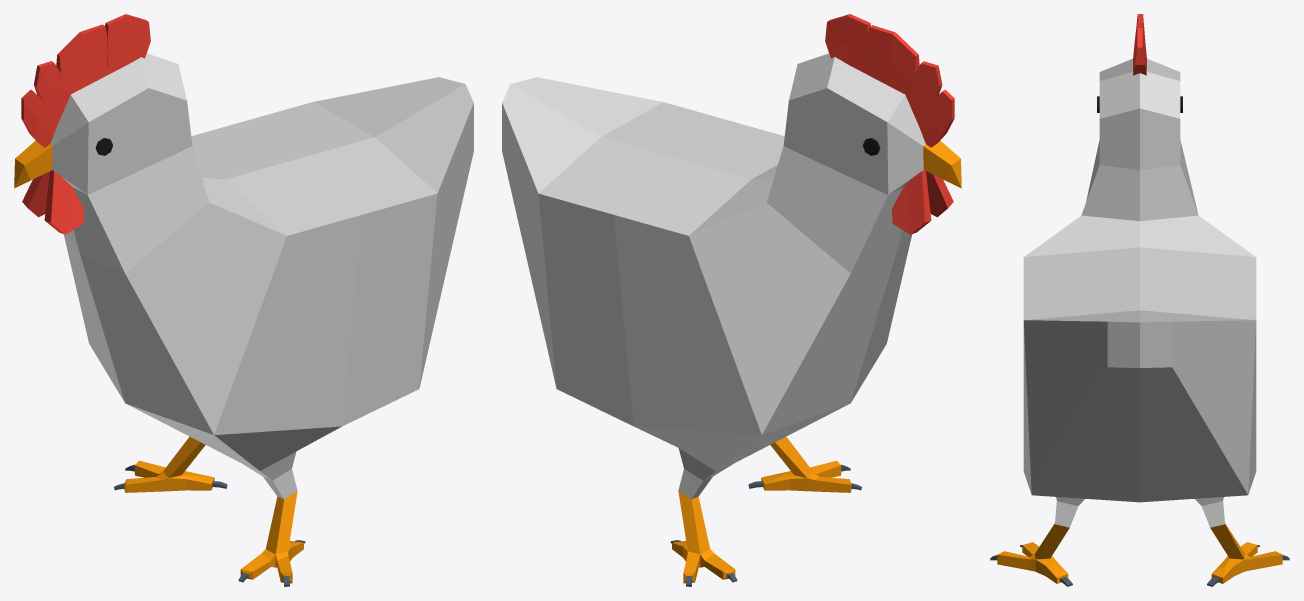
File: ayam2.glb
3 views of the same model, side by side, from view 1: azimuth 30°, elevation 25°; view 2: azimuth 150°, elevation 25°; view 3: azimuth 270°, elevation 25° (orthographic). The views are drawn at different scales.
Parts seen in each view (by area): view 1: Cube.035_Cube.034; view 2: Cube.035_Cube.034; view 3: Cube.035_Cube.034.
Boxes of the visible parts, box(x1,y1,x2,y2) form: Cube.035_Cube.034: box(14, 14, 473, 586); Cube.035_Cube.034: box(502, 14, 961, 586); Cube.035_Cube.034: box(990, 14, 1289, 586).
Bounding box in the file's own units: 1.67 × 1.89 × 1.03.
